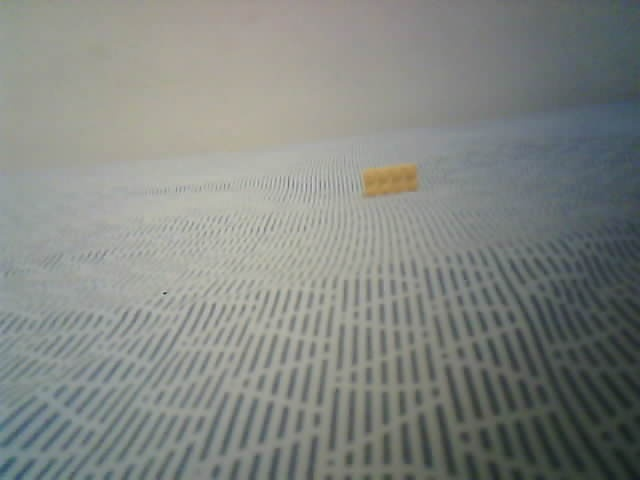lego: (359, 162, 418, 196)
